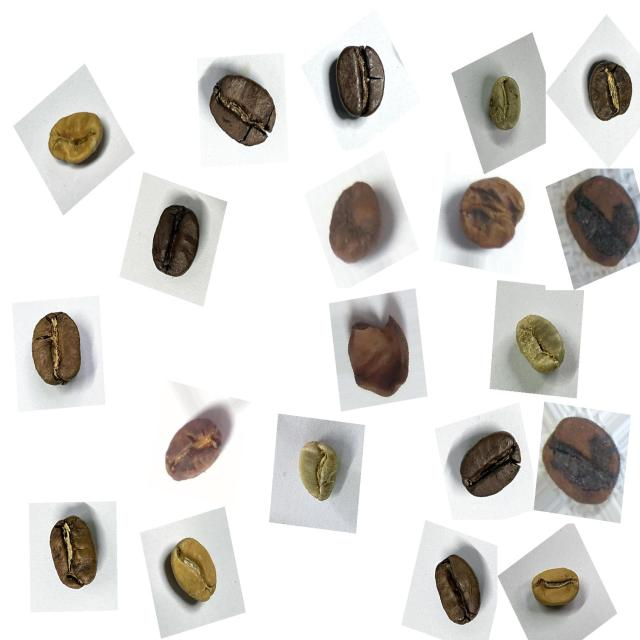bad: (534, 405, 628, 520), (335, 299, 421, 409), (558, 166, 640, 278), (318, 171, 398, 275), (450, 170, 533, 264), (159, 398, 236, 496)
dark: (452, 419, 534, 515), (321, 32, 400, 131), (138, 192, 212, 288)
green: (502, 303, 576, 389), (285, 430, 352, 514), (475, 68, 534, 144)
light: (159, 528, 232, 618), (38, 101, 112, 184), (526, 556, 591, 623)
medium: (198, 66, 286, 162), (36, 508, 113, 605), (21, 302, 96, 400), (420, 546, 491, 638), (577, 53, 639, 135)
